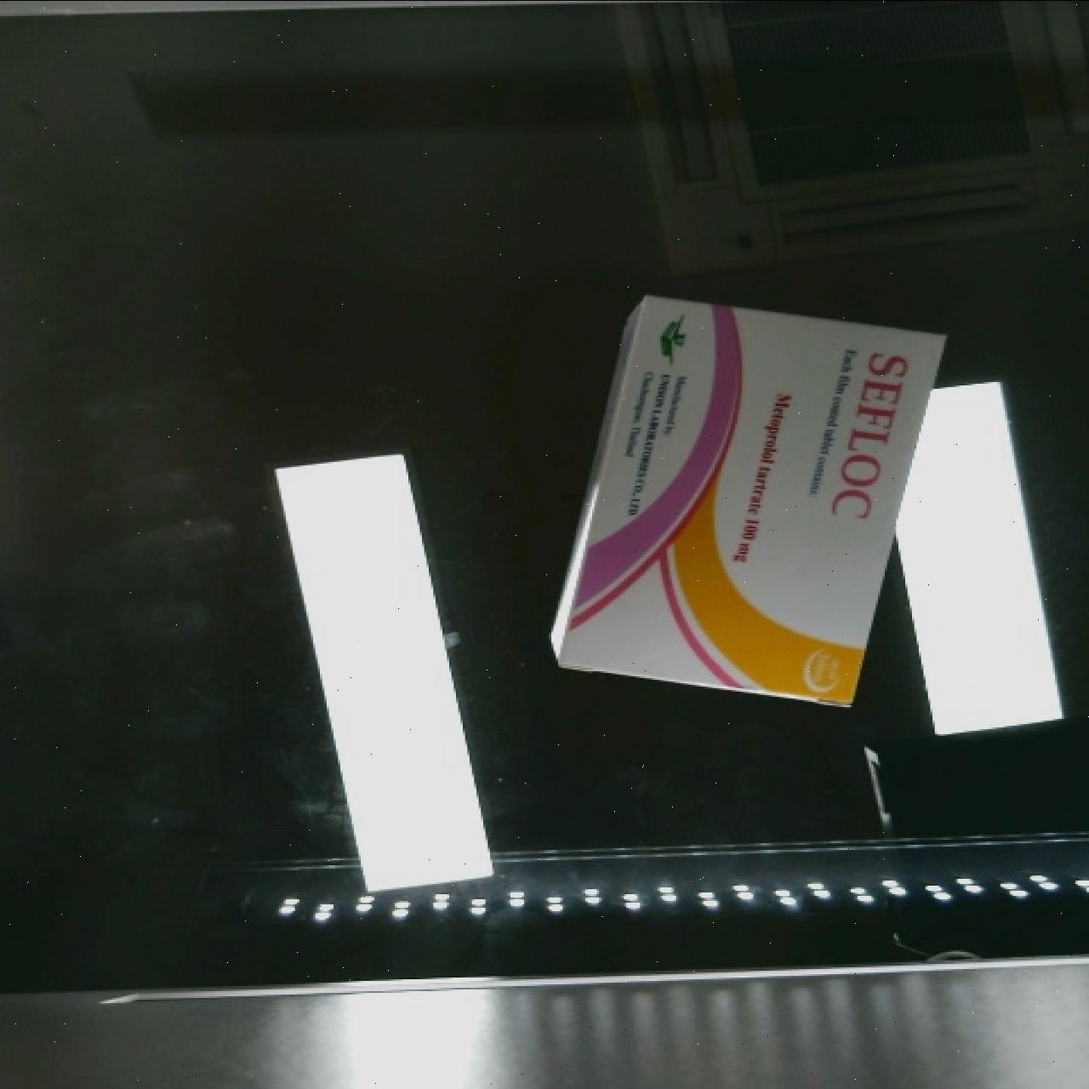medicine_label_obb: (807, 322, 929, 541)
